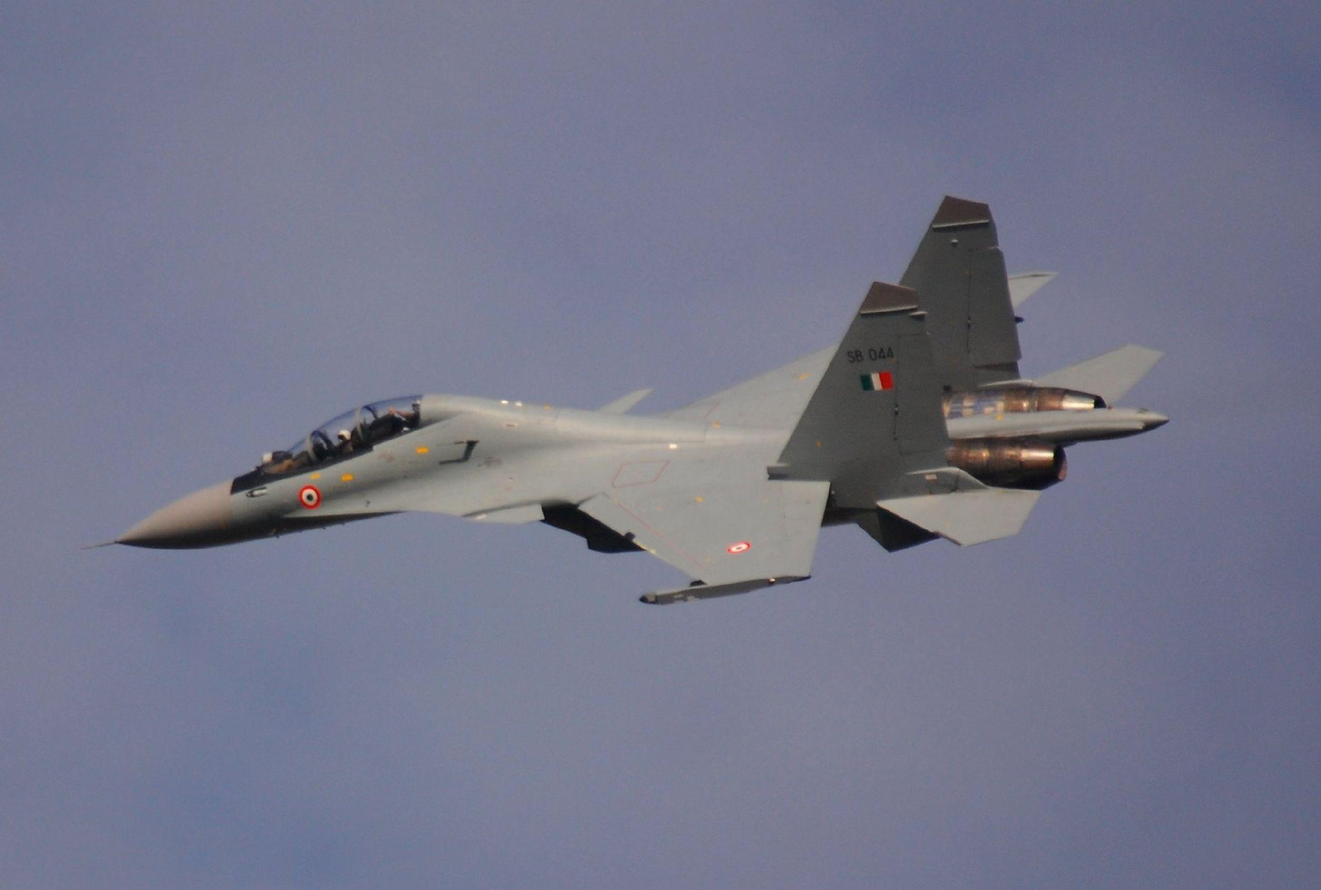aircraft: (112, 198, 1171, 605)
